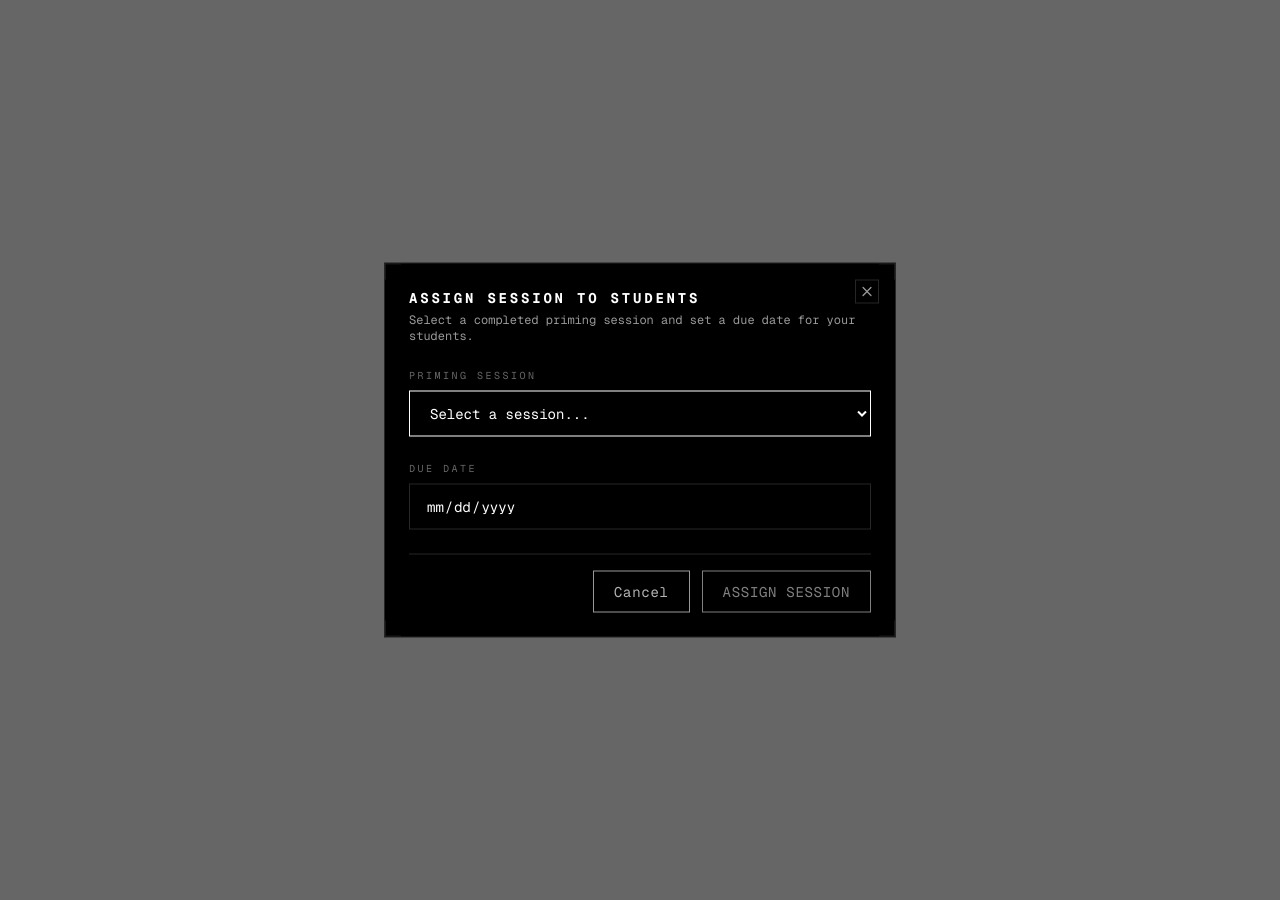
Scenario: AssignSessionModal › shows 'Assigning...' during submission
This screenshot has width=1280, height=900.
Select "Session A (15 min)" in the dropdown at (640, 414), box [409,390,871,436]
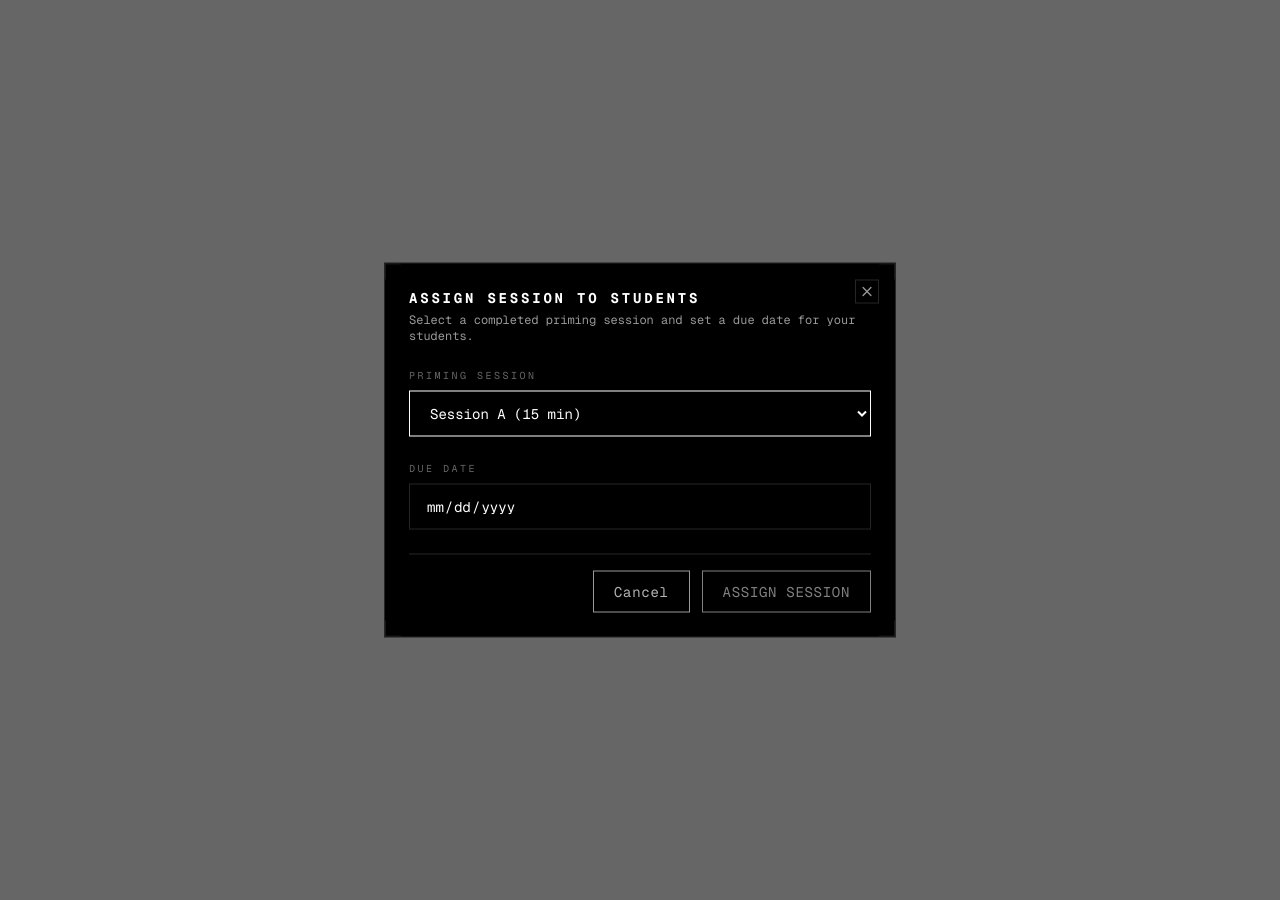
Type "2026-12-25" into the date field at (640, 506), box [409,484,871,530]
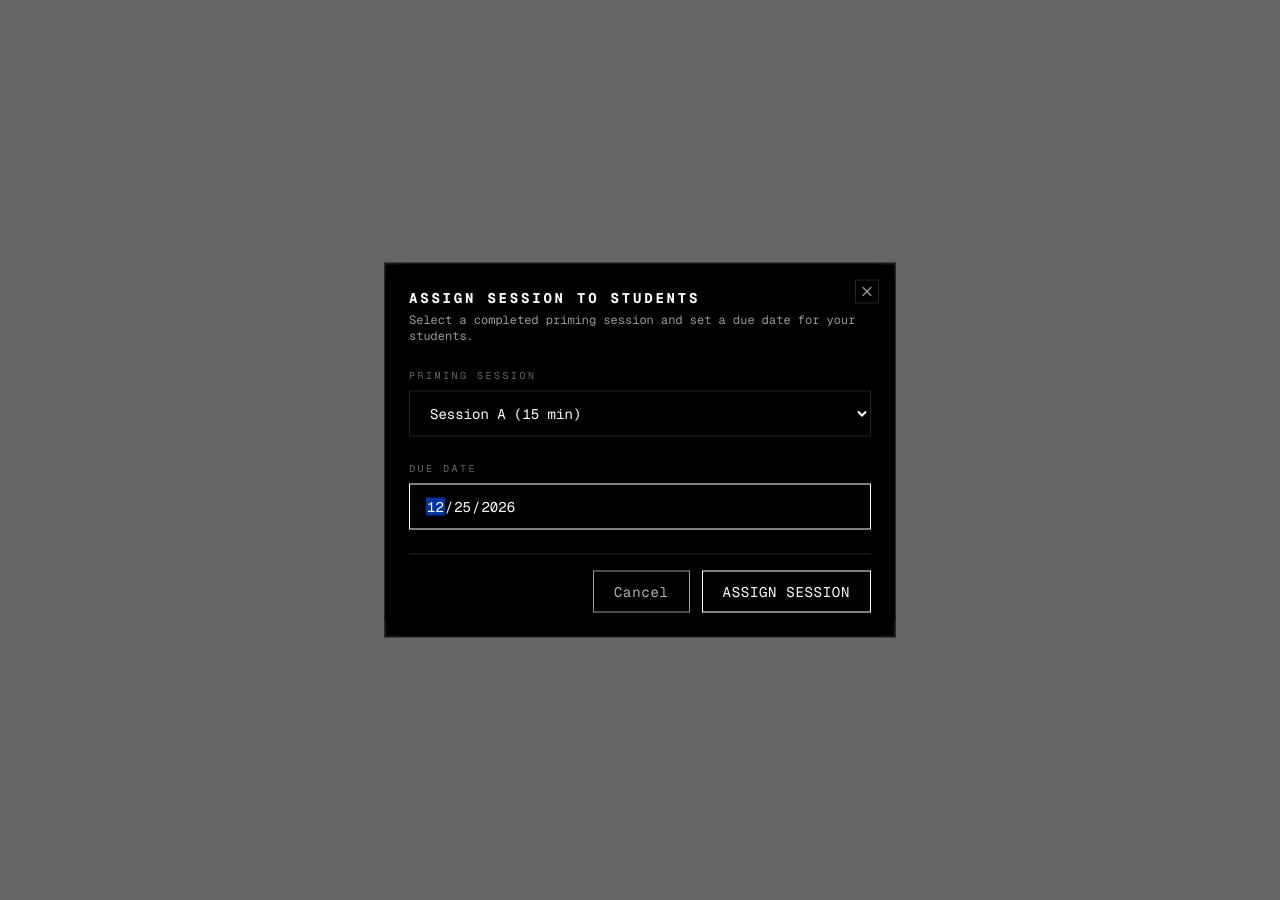
Click the button "ASSIGN SESSION" at (786, 592), box [702,570,871,612]
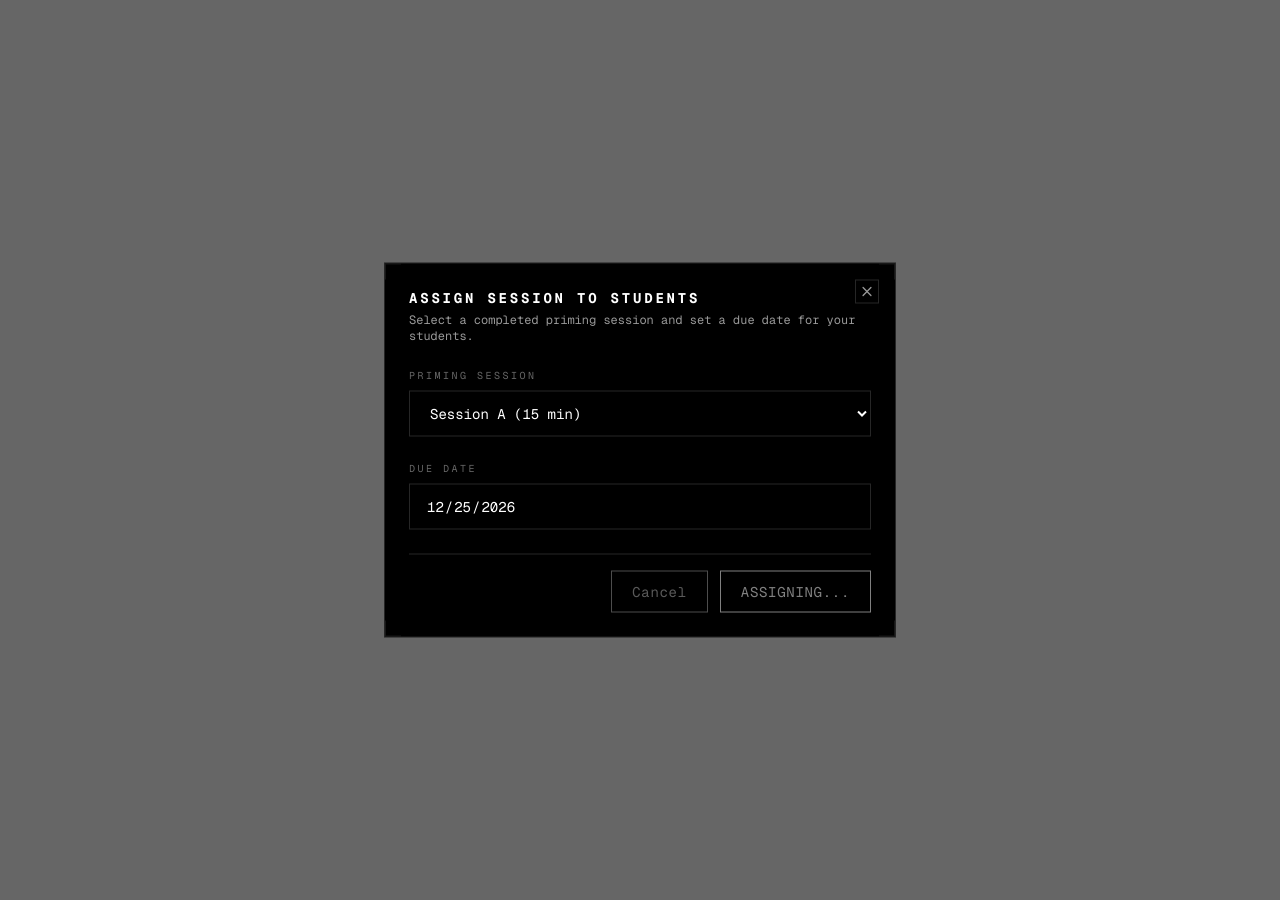
Expected: the text "ASSIGNING..." is shown, [741,582,850,602]
